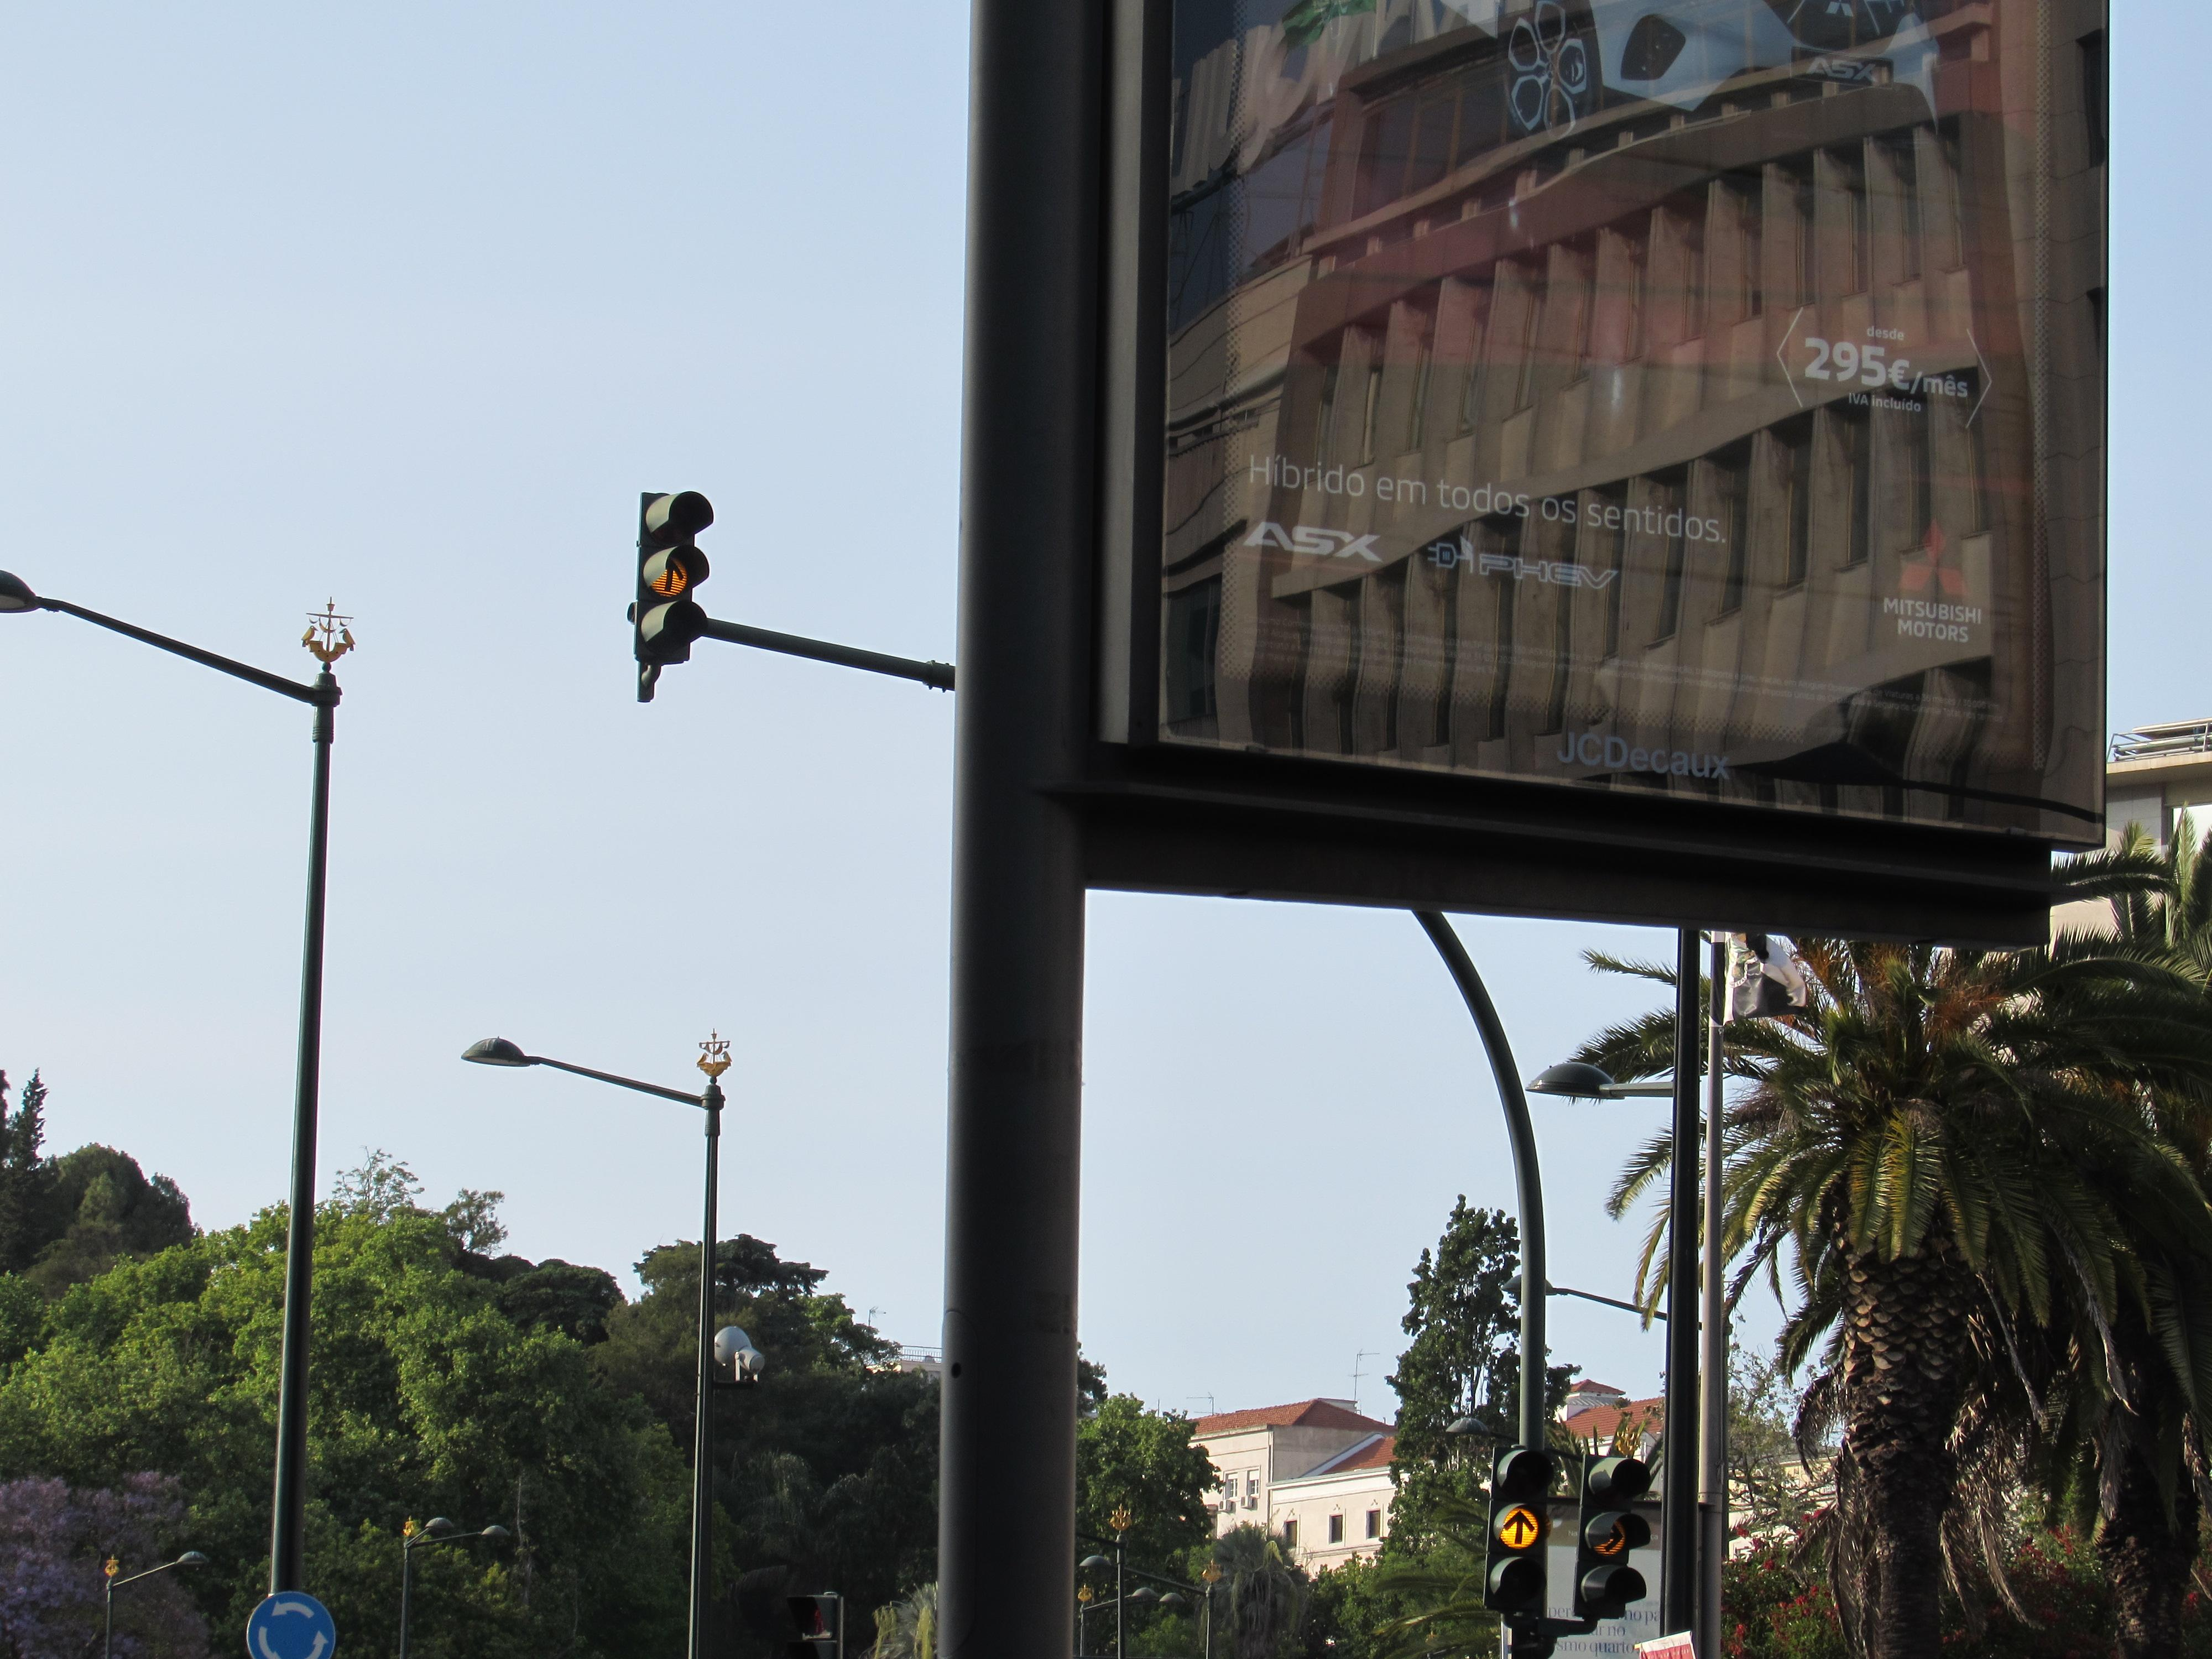yellow_light: (636, 490, 714, 664), (1573, 1453, 1651, 1619), (1484, 1446, 1554, 1612)
